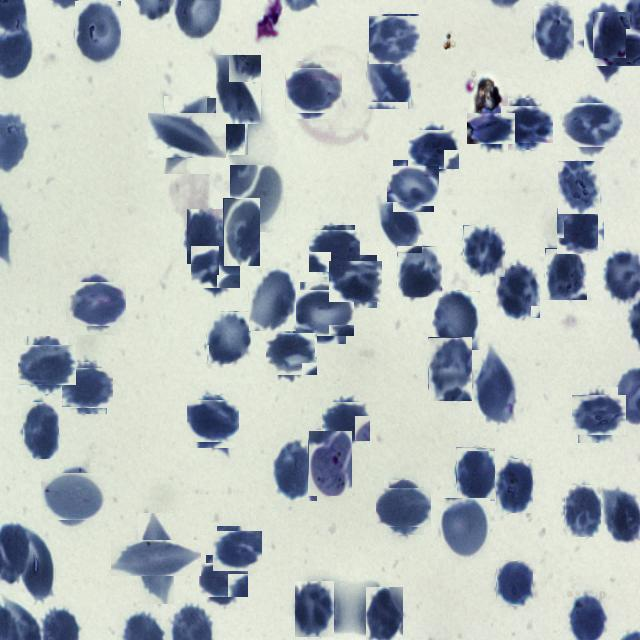red blood cell: (124, 526, 188, 590), (156, 104, 218, 166), (230, 165, 284, 232), (215, 54, 261, 124), (438, 498, 490, 559), (46, 468, 102, 524), (249, 268, 296, 331), (75, 1, 121, 65), (296, 286, 350, 340), (584, 20, 638, 74), (476, 350, 515, 424), (432, 291, 480, 350), (428, 337, 472, 401), (273, 439, 317, 501), (566, 99, 618, 151), (70, 278, 122, 330), (288, 65, 340, 116), (18, 532, 56, 600), (223, 198, 260, 266), (22, 340, 72, 390), (370, 15, 420, 64), (206, 97, 248, 155), (495, 264, 540, 318), (206, 311, 251, 364), (366, 57, 411, 109), (380, 484, 428, 532), (332, 258, 380, 306), (397, 246, 442, 297), (584, 4, 626, 58), (190, 398, 237, 446), (556, 208, 604, 255), (574, 392, 622, 439), (378, 202, 422, 253), (558, 161, 600, 214), (310, 228, 358, 274), (268, 330, 314, 378), (545, 248, 587, 300), (463, 225, 505, 277), (295, 581, 334, 637), (534, 6, 574, 60), (391, 162, 436, 210), (64, 365, 110, 411), (214, 528, 260, 574), (192, 244, 238, 290), (22, 402, 59, 459), (456, 447, 495, 501), (495, 458, 533, 513), (187, 209, 225, 264), (412, 126, 456, 172), (504, 102, 550, 146), (564, 484, 601, 537), (366, 587, 403, 640), (324, 399, 368, 443), (202, 559, 244, 601), (496, 560, 533, 606), (472, 108, 512, 148)
ring: (308, 431, 352, 496)
